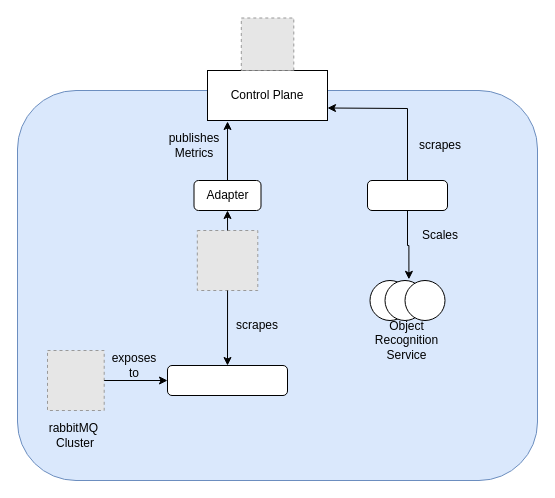
Image size: 555x498. Some labels were removed from this diagram. Grey dashed boxes stand in for pictures. Each missing label, with the box of its shape:
HPA: (366, 180, 448, 210)
rabbitmq cluster service: (166, 364, 288, 396)
